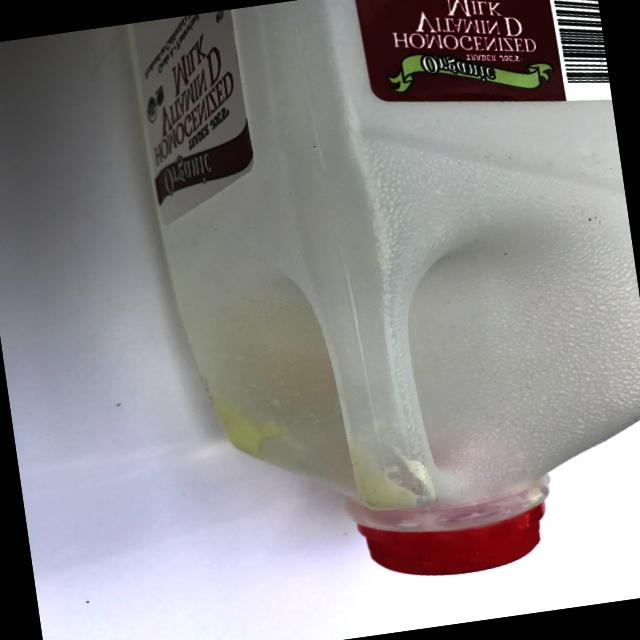Plastic: (86, 0, 640, 639)
